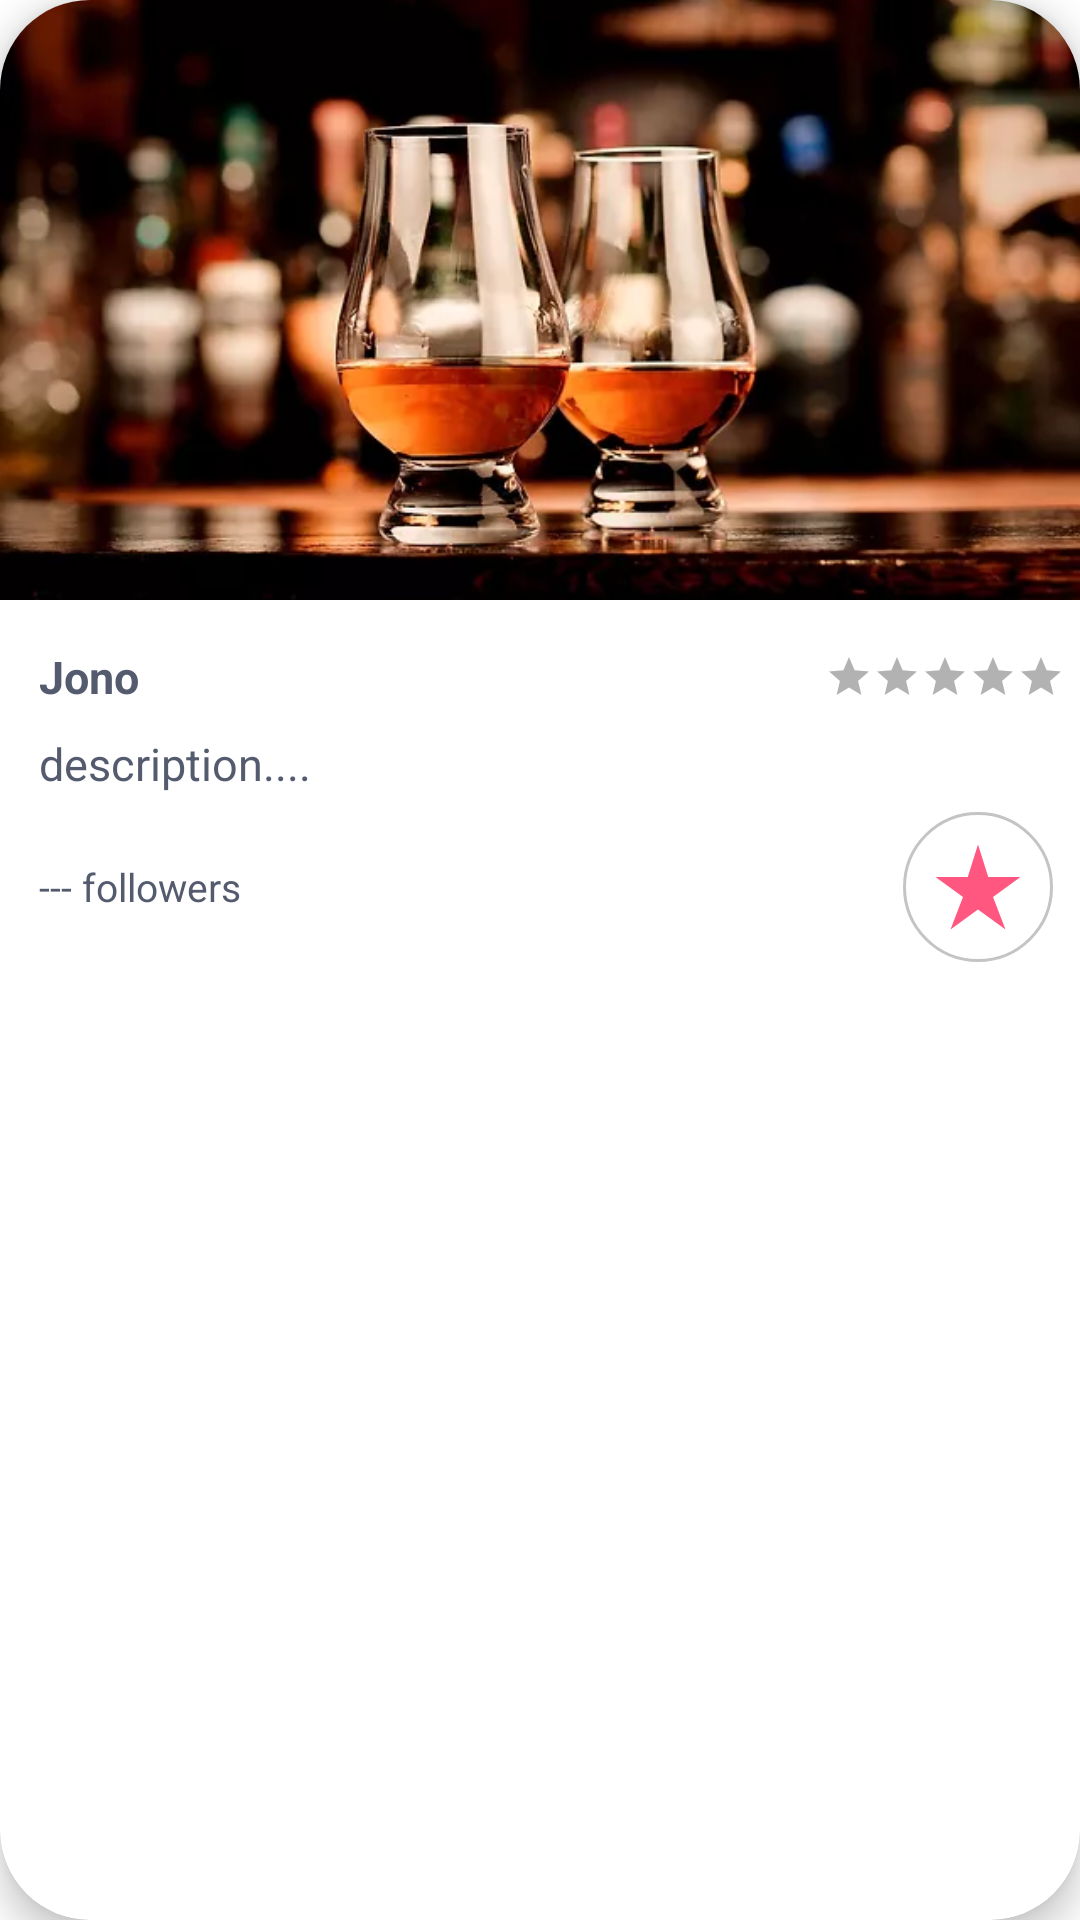

Icons on this 1080w x 1920h Android screen, each with its box as (x1, y1, x2, y2):
star: (903, 812, 1053, 962)
